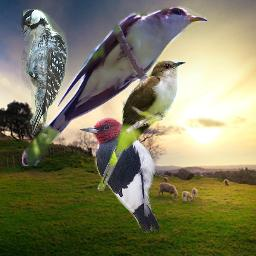Cuckoo: (22, 6, 207, 166), (97, 59, 186, 191)
Woodpecker: (79, 117, 159, 233), (21, 9, 68, 135)
